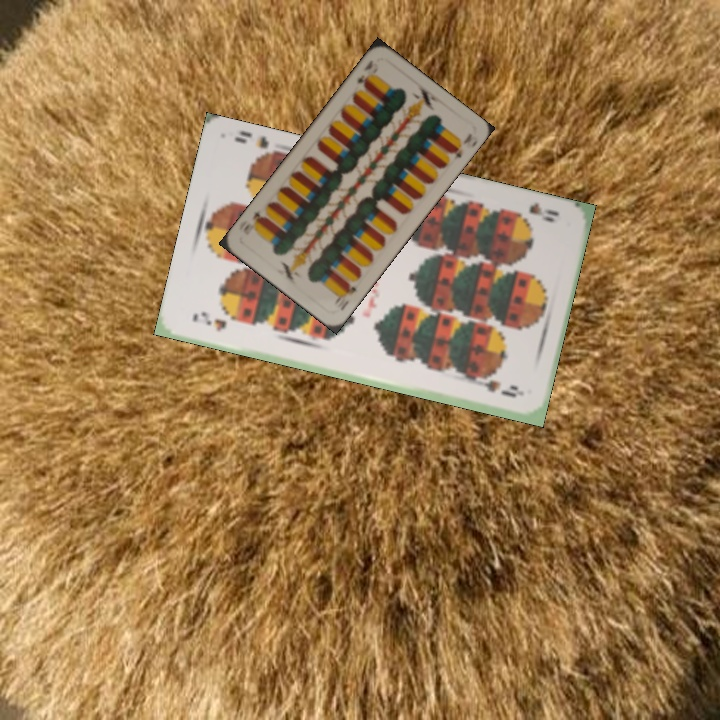E10: (330, 280, 359, 313), (353, 56, 377, 90)
S9: (507, 198, 562, 225), (188, 309, 229, 334)
